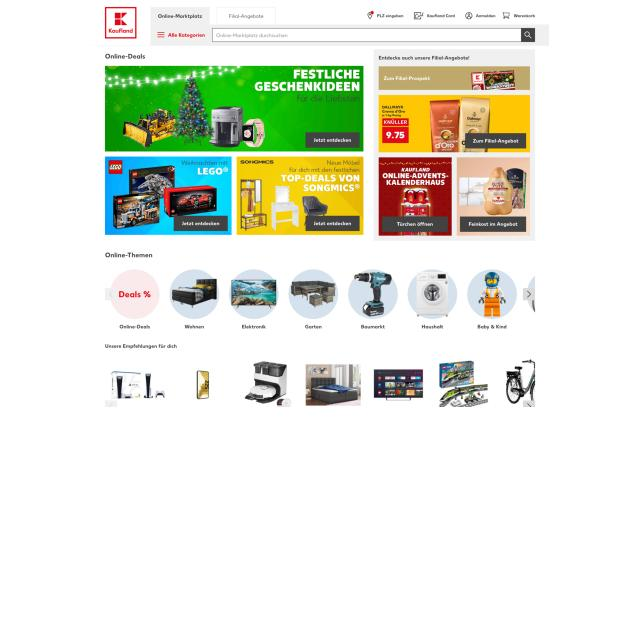CheckBox: (460, 216, 526, 233), (382, 216, 449, 232), (466, 132, 526, 148), (306, 215, 360, 231), (306, 132, 360, 147), (174, 216, 228, 231), (413, 11, 456, 21), (367, 10, 404, 19), (502, 11, 535, 20), (465, 12, 496, 21), (521, 28, 535, 42)
CheckedTextView: (211, 28, 536, 42)
Switch: (102, 265, 536, 334)
bag: (93, 0, 549, 46)
breadcrumbs: (104, 52, 146, 61)
copy: (106, 65, 364, 151), (378, 66, 530, 90)
date picker: (104, 5, 138, 40)
decoration: (168, 268, 518, 330), (157, 30, 207, 41)
footer: (215, 31, 290, 39)
icon: (150, 6, 282, 28)
